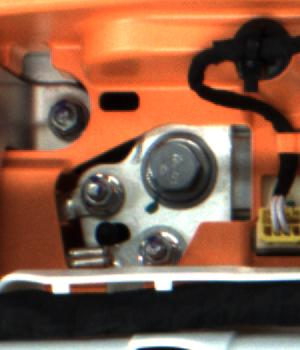nut_b: (136, 130, 217, 206)
screw_s: (80, 170, 118, 211), (132, 229, 174, 264), (43, 97, 79, 132)
